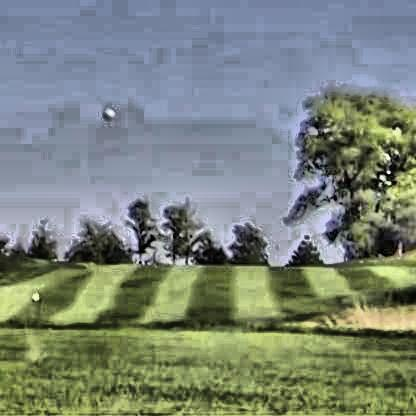golfball: (99, 105, 111, 117)
